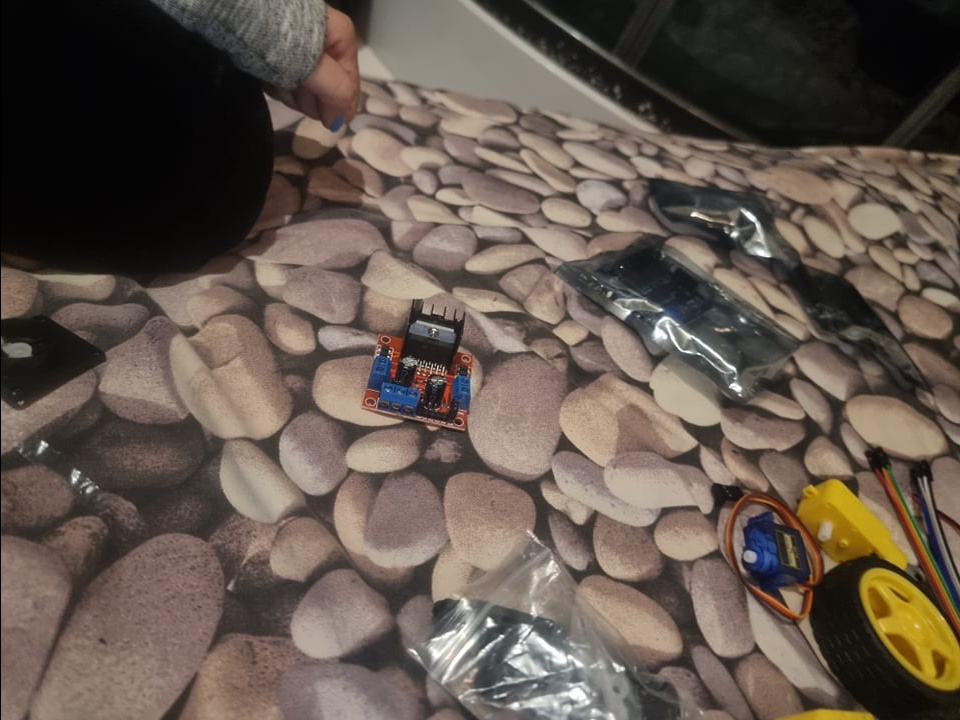MOTOR: (357, 296, 473, 434)
